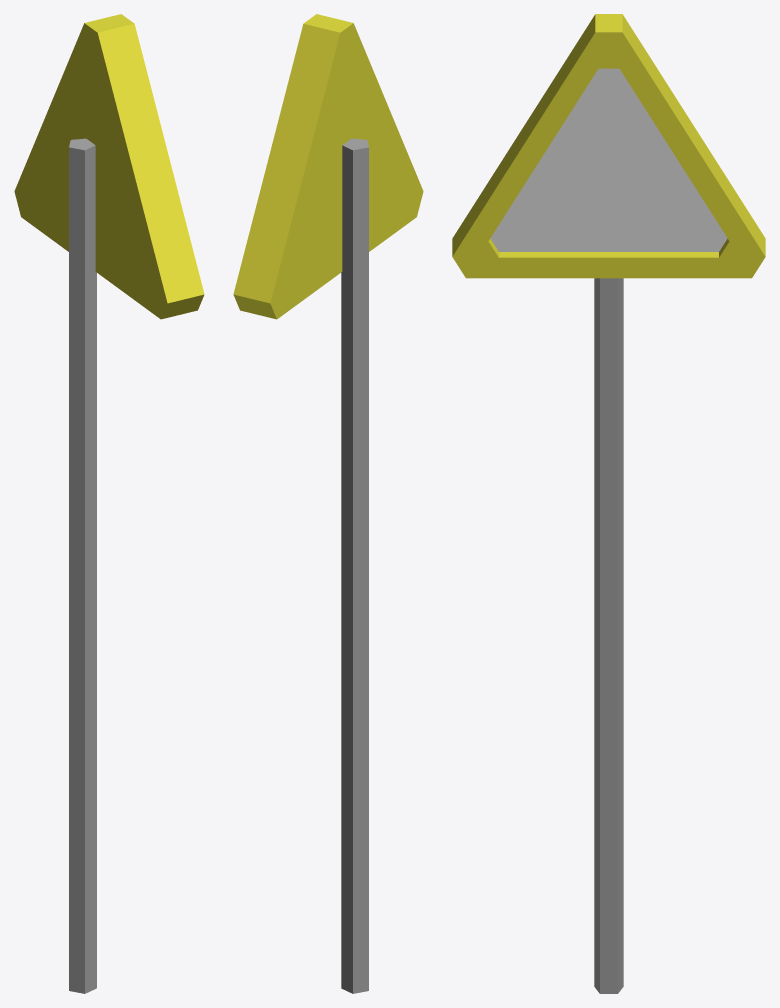
File: Sign_Triangle.glb
The picture shows the model from 3 angles, left to right: view 1: azimuth 30°, elevation 25°; view 2: azimuth 150°, elevation 25°; view 3: azimuth 270°, elevation 25°; orthographic projection. The views are drawn at different scales.
Parts seen in each view (by area): view 1: Triangle; view 2: Triangle; view 3: Triangle.
Part boxes in pixels (left/top/right/bottom): Triangle: left=14, top=14, right=204, bottom=993; Triangle: left=233, top=14, right=423, bottom=993; Triangle: left=452, top=14, right=765, bottom=993.
Bounding box in the file's own units: 0.0345 × 0.5344 × 0.1549.
